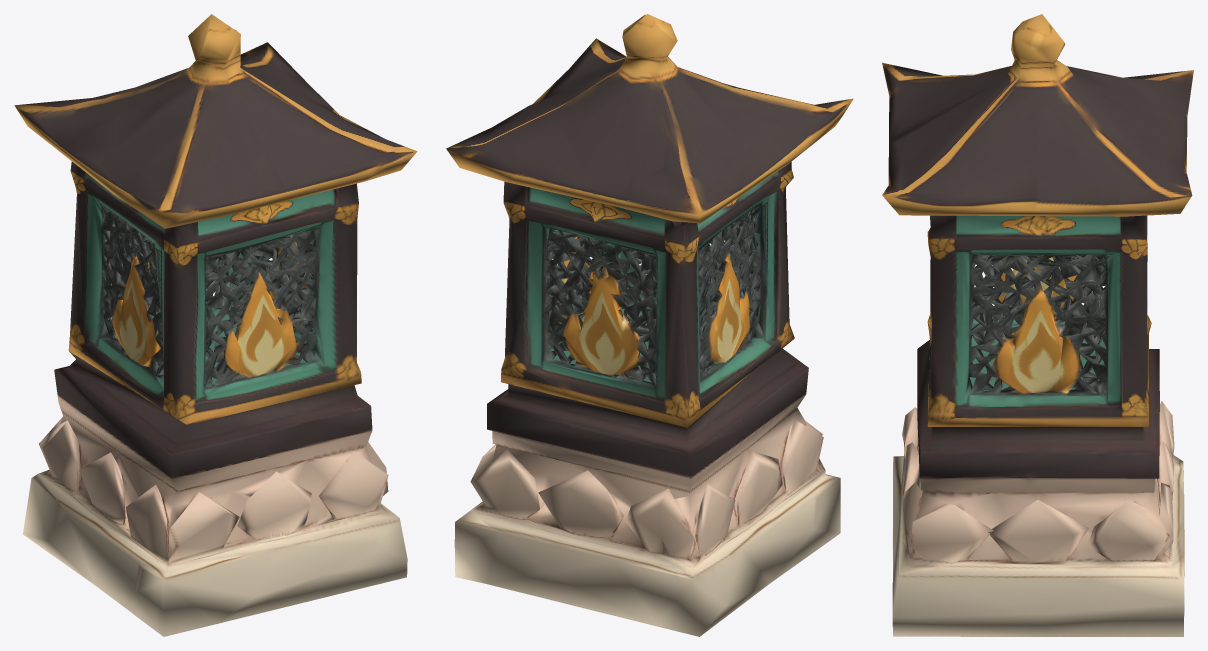
The model's file is stone_lantern.glb.
3 renders of one model, left to right at view 1: azimuth 30°, elevation 25°; view 2: azimuth 150°, elevation 25°; view 3: azimuth 270°, elevation 25°, orthographic. The views are drawn at different scales.
Parts seen in each view (by area): view 1: tripo_node_1d6f2330-f9d1-4570-82ee-289c322192ea; view 2: tripo_node_1d6f2330-f9d1-4570-82ee-289c322192ea; view 3: tripo_node_1d6f2330-f9d1-4570-82ee-289c322192ea.
Part boxes in pixels (left/top/right/bottom): tripo_node_1d6f2330-f9d1-4570-82ee-289c322192ea: left=14, top=14, right=417, bottom=636; tripo_node_1d6f2330-f9d1-4570-82ee-289c322192ea: left=446, top=14, right=853, bottom=636; tripo_node_1d6f2330-f9d1-4570-82ee-289c322192ea: left=882, top=14, right=1193, bottom=636.
Size of the model in its own units: 0.4967 by 1 by 0.5042.
1 material, 1 textured.
